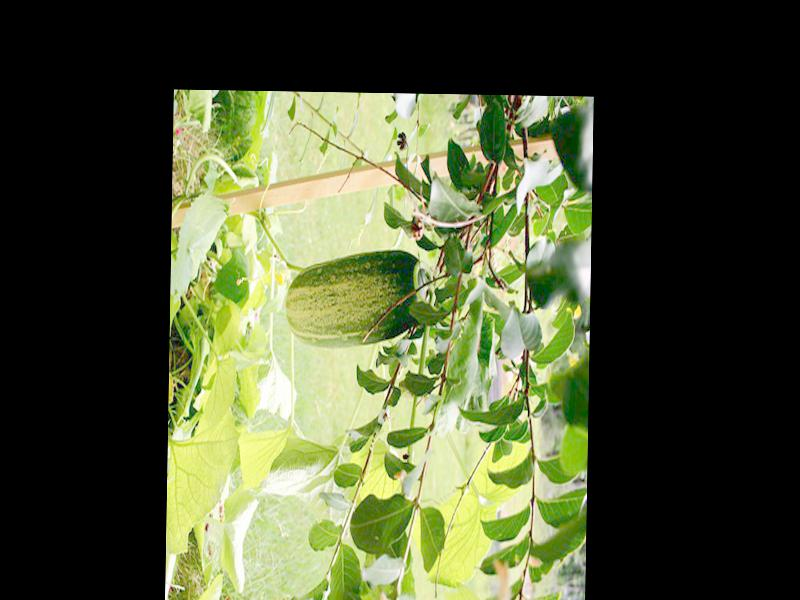Cucumber: (284, 246, 434, 347)
